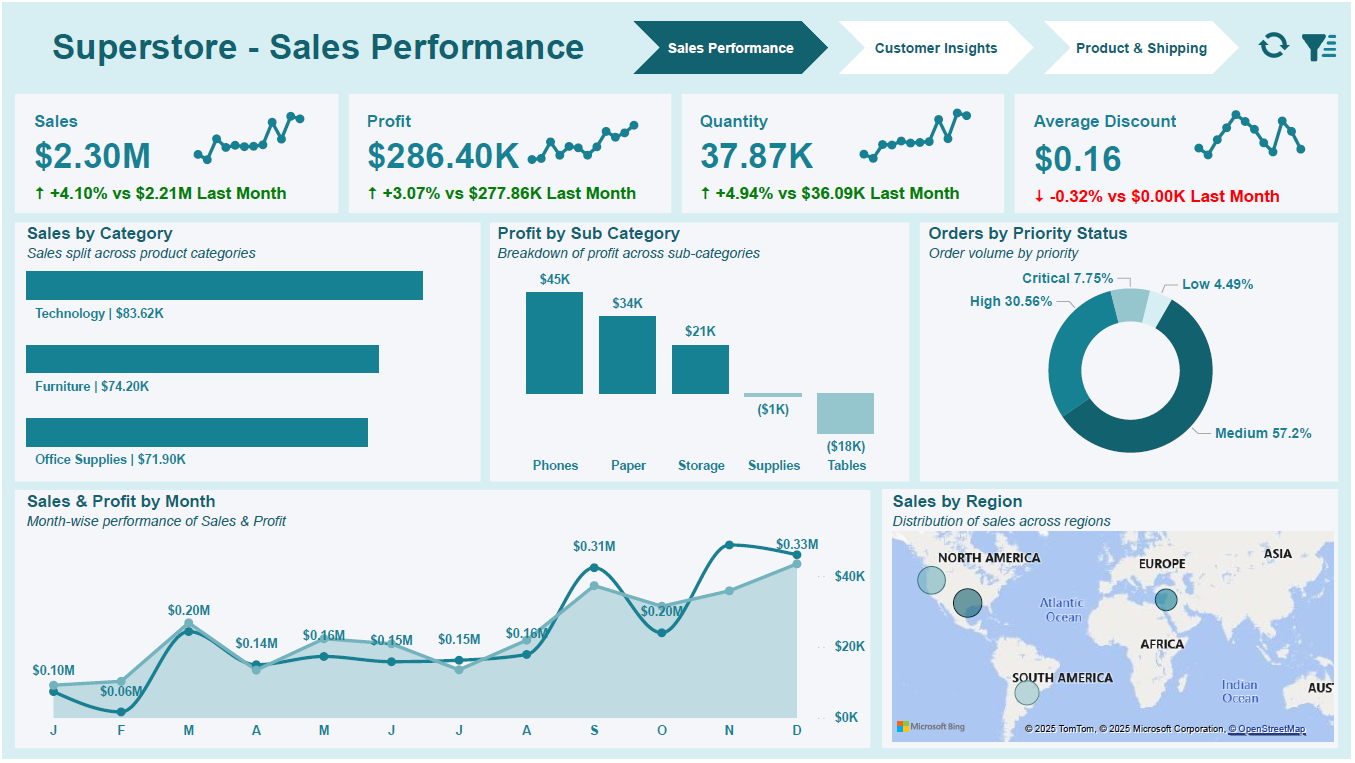

This screenshot's page, from the dashboard's own definition file:
{"tool":"powerbi","page":{"name":"Sales Performance","canvas":[1280,720],"ordinal":0},"visuals":[{"type":"shape","box":[13.1,8.3,569.1,69],"z":0},{"type":"cardVisual","fields":{"Data":["DAX.Sales"]},"box":[13.2,87,306,115],"z":0,"group":"g1"},{"type":"cardVisual","fields":{"Data":["DAX.Profit"]},"box":[329,87,306.2,115],"z":0,"group":"g2"},{"type":"cardVisual","fields":{"Data":["DAX.Quantity"]},"box":[645.4,87,306.3,115],"z":0,"group":"g3"},{"type":"cardVisual","fields":{"Data":["DAX.Discount"]},"box":[962.4,87,306.3,115],"z":0,"group":"g4"},{"type":"group","id":"g1","title":"Sales KPI","box":[13.2,87,306,115],"z":1000},{"type":"group","id":"g2","title":"Profit KPI","box":[329,87,306.2,115],"z":2000},{"type":"group","id":"g3","title":"Quantity KPI","box":[645.4,87,306.3,115],"z":3000},{"type":"group","id":"g4","title":"Discount KPI","box":[962.4,87,306.3,115],"z":4000},{"type":"map","fields":{"Size":["DAX.Sales"],"Category":["Global_Superstore.Region"]},"box":[834.5,462.7,434.5,244.4],"z":5000},{"type":"clusteredBarChart","title":"Sales by Category","fields":{"Y":["DAX.Sales","DAX.Label Holder"],"Category":["Global_Superstore.Category"]},"box":[12.6,209.5,441.6,246.3],"z":6000},{"type":"lineChart","title":"Sales & Profit by Month","fields":{"Y":["DAX.Sales"],"Category":["DateTable.Month Name"],"Y2":["DAX.Profit"]},"box":[13.4,462.7,810.6,244.4],"z":7000},{"type":"clusteredColumnChart","title":"Profit by Sub Category","fields":{"Y":["DAX.Profit"],"Category":["Global_Superstore.Sub-Category"]},"box":[462,209.4,400,246.2],"z":8000},{"type":"donutChart","title":"Orders by Priority Status","fields":{"Y":["DAX.Orders"],"Category":["Global_Superstore.Order Priority"]},"box":[871.3,209.4,396.5,246.2],"z":9000},{"type":"lineChart","fields":{"Y":["DAX.Sales"],"Category":["DateTable.Month Number"]},"box":[166.6,87.5,152.2,76.7],"z":10000},{"type":"lineChart","fields":{"Y":["DAX.Profit"],"Category":["DateTable.Month Number"]},"box":[484.2,87.5,152.2,76.7],"z":11000},{"type":"lineChart","fields":{"Y":["DAX.Quantity"],"Category":["DateTable.Month Number"]},"box":[799.4,87.5,152.2,76.7],"z":12000},{"type":"lineChart","fields":{"Y":["DAX.Average Discount"],"Category":["DateTable.Month Number"]},"box":[1117,87.5,152.2,76.7],"z":13000},{"type":"image","box":[1186.9,17.9,40.5,45.2],"z":14000},{"type":"image","box":[1227.4,17.9,45.2,50],"z":15000},{"type":"pageNavigator","box":[598.8,17.9,575,50],"z":17000}]}

Visuals, with their boxes in screenshot pixels (x1, y1, x2, y2), scaled from the page's 1280x720 canvas onto the 1355x763 screenshot:
shape: 14, 9, 616, 82
cardVisual - DAX.Sales: 14, 92, 338, 214
cardVisual - DAX.Profit: 348, 92, 672, 214
cardVisual - DAX.Quantity: 683, 92, 1007, 214
cardVisual - DAX.Discount: 1019, 92, 1343, 214
"Sales KPI" group: 14, 92, 338, 214
"Profit KPI" group: 348, 92, 672, 214
"Quantity KPI" group: 683, 92, 1007, 214
"Discount KPI" group: 1019, 92, 1343, 214
map - DAX.Sales x Global_Superstore.Region: 883, 490, 1343, 749
"Sales by Category" clusteredBarChart: 13, 222, 481, 483
"Sales & Profit by Month" lineChart: 14, 490, 872, 749
"Profit by Sub Category" clusteredColumnChart: 489, 222, 913, 483
"Orders by Priority Status" donutChart: 922, 222, 1342, 483
lineChart - DAX.Sales x DateTable.Month Number: 176, 93, 337, 174
lineChart - DAX.Profit x DateTable.Month Number: 513, 93, 674, 174
lineChart - DAX.Quantity x DateTable.Month Number: 846, 93, 1007, 174
lineChart - DAX.Average Discount x DateTable.Month Number: 1182, 93, 1344, 174
image: 1256, 19, 1299, 67
image: 1299, 19, 1347, 72
pageNavigator: 634, 19, 1243, 72
